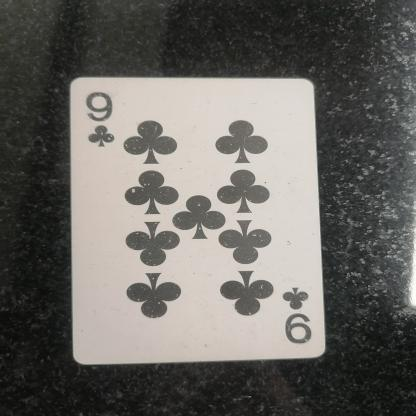9C: (274, 282, 330, 352), (75, 92, 131, 160)
